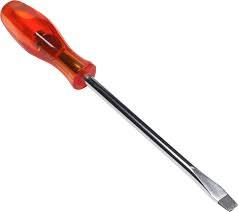screwdriver: (0, 0, 236, 210)
